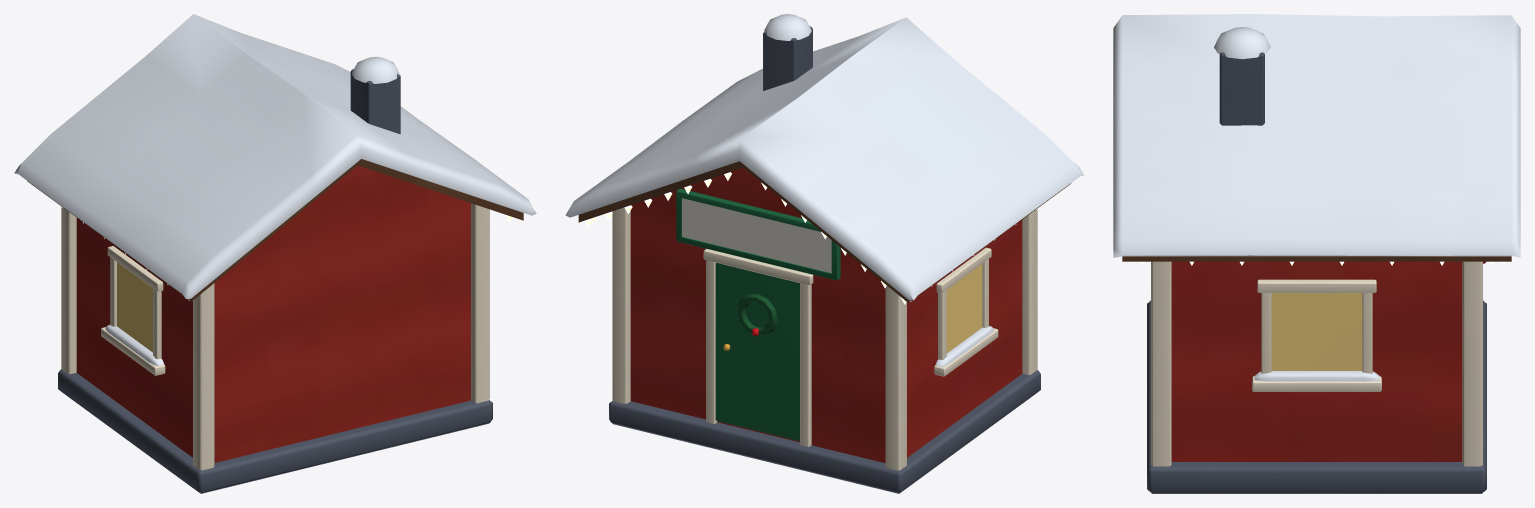
The model's file is SM_StartHut.glb.
3 renders of one model, left to right at view 1: azimuth 30°, elevation 25°; view 2: azimuth 150°, elevation 25°; view 3: azimuth 270°, elevation 25°, orthographic. The views are drawn at different scales.
Parts seen in each view (by area): view 1: SM_StartHut; view 2: SM_StartHut, SignFace, glow; view 3: SM_StartHut.
Boxes of the visible parts, x1=… form: SM_StartHut: x1=14, y1=14, x2=536, y2=493; SM_StartHut: x1=565, y1=14, x2=1084, y2=493; SignFace: x1=682, y1=198, x2=831, y2=272; glow: x1=585, y1=172, x2=1057, y2=304; SM_StartHut: x1=1113, y1=14, x2=1520, y2=493.
Size of the model in its own units: 3.7 by 3.57 by 3.14.
Materials: 3 (2 with a texture image).
